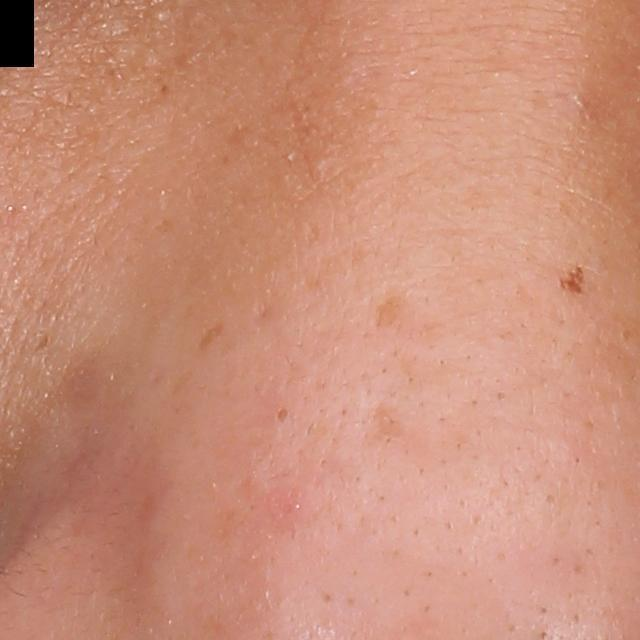comedo: (273, 400, 292, 428)
melasma: (369, 289, 415, 333), (196, 322, 226, 354)
